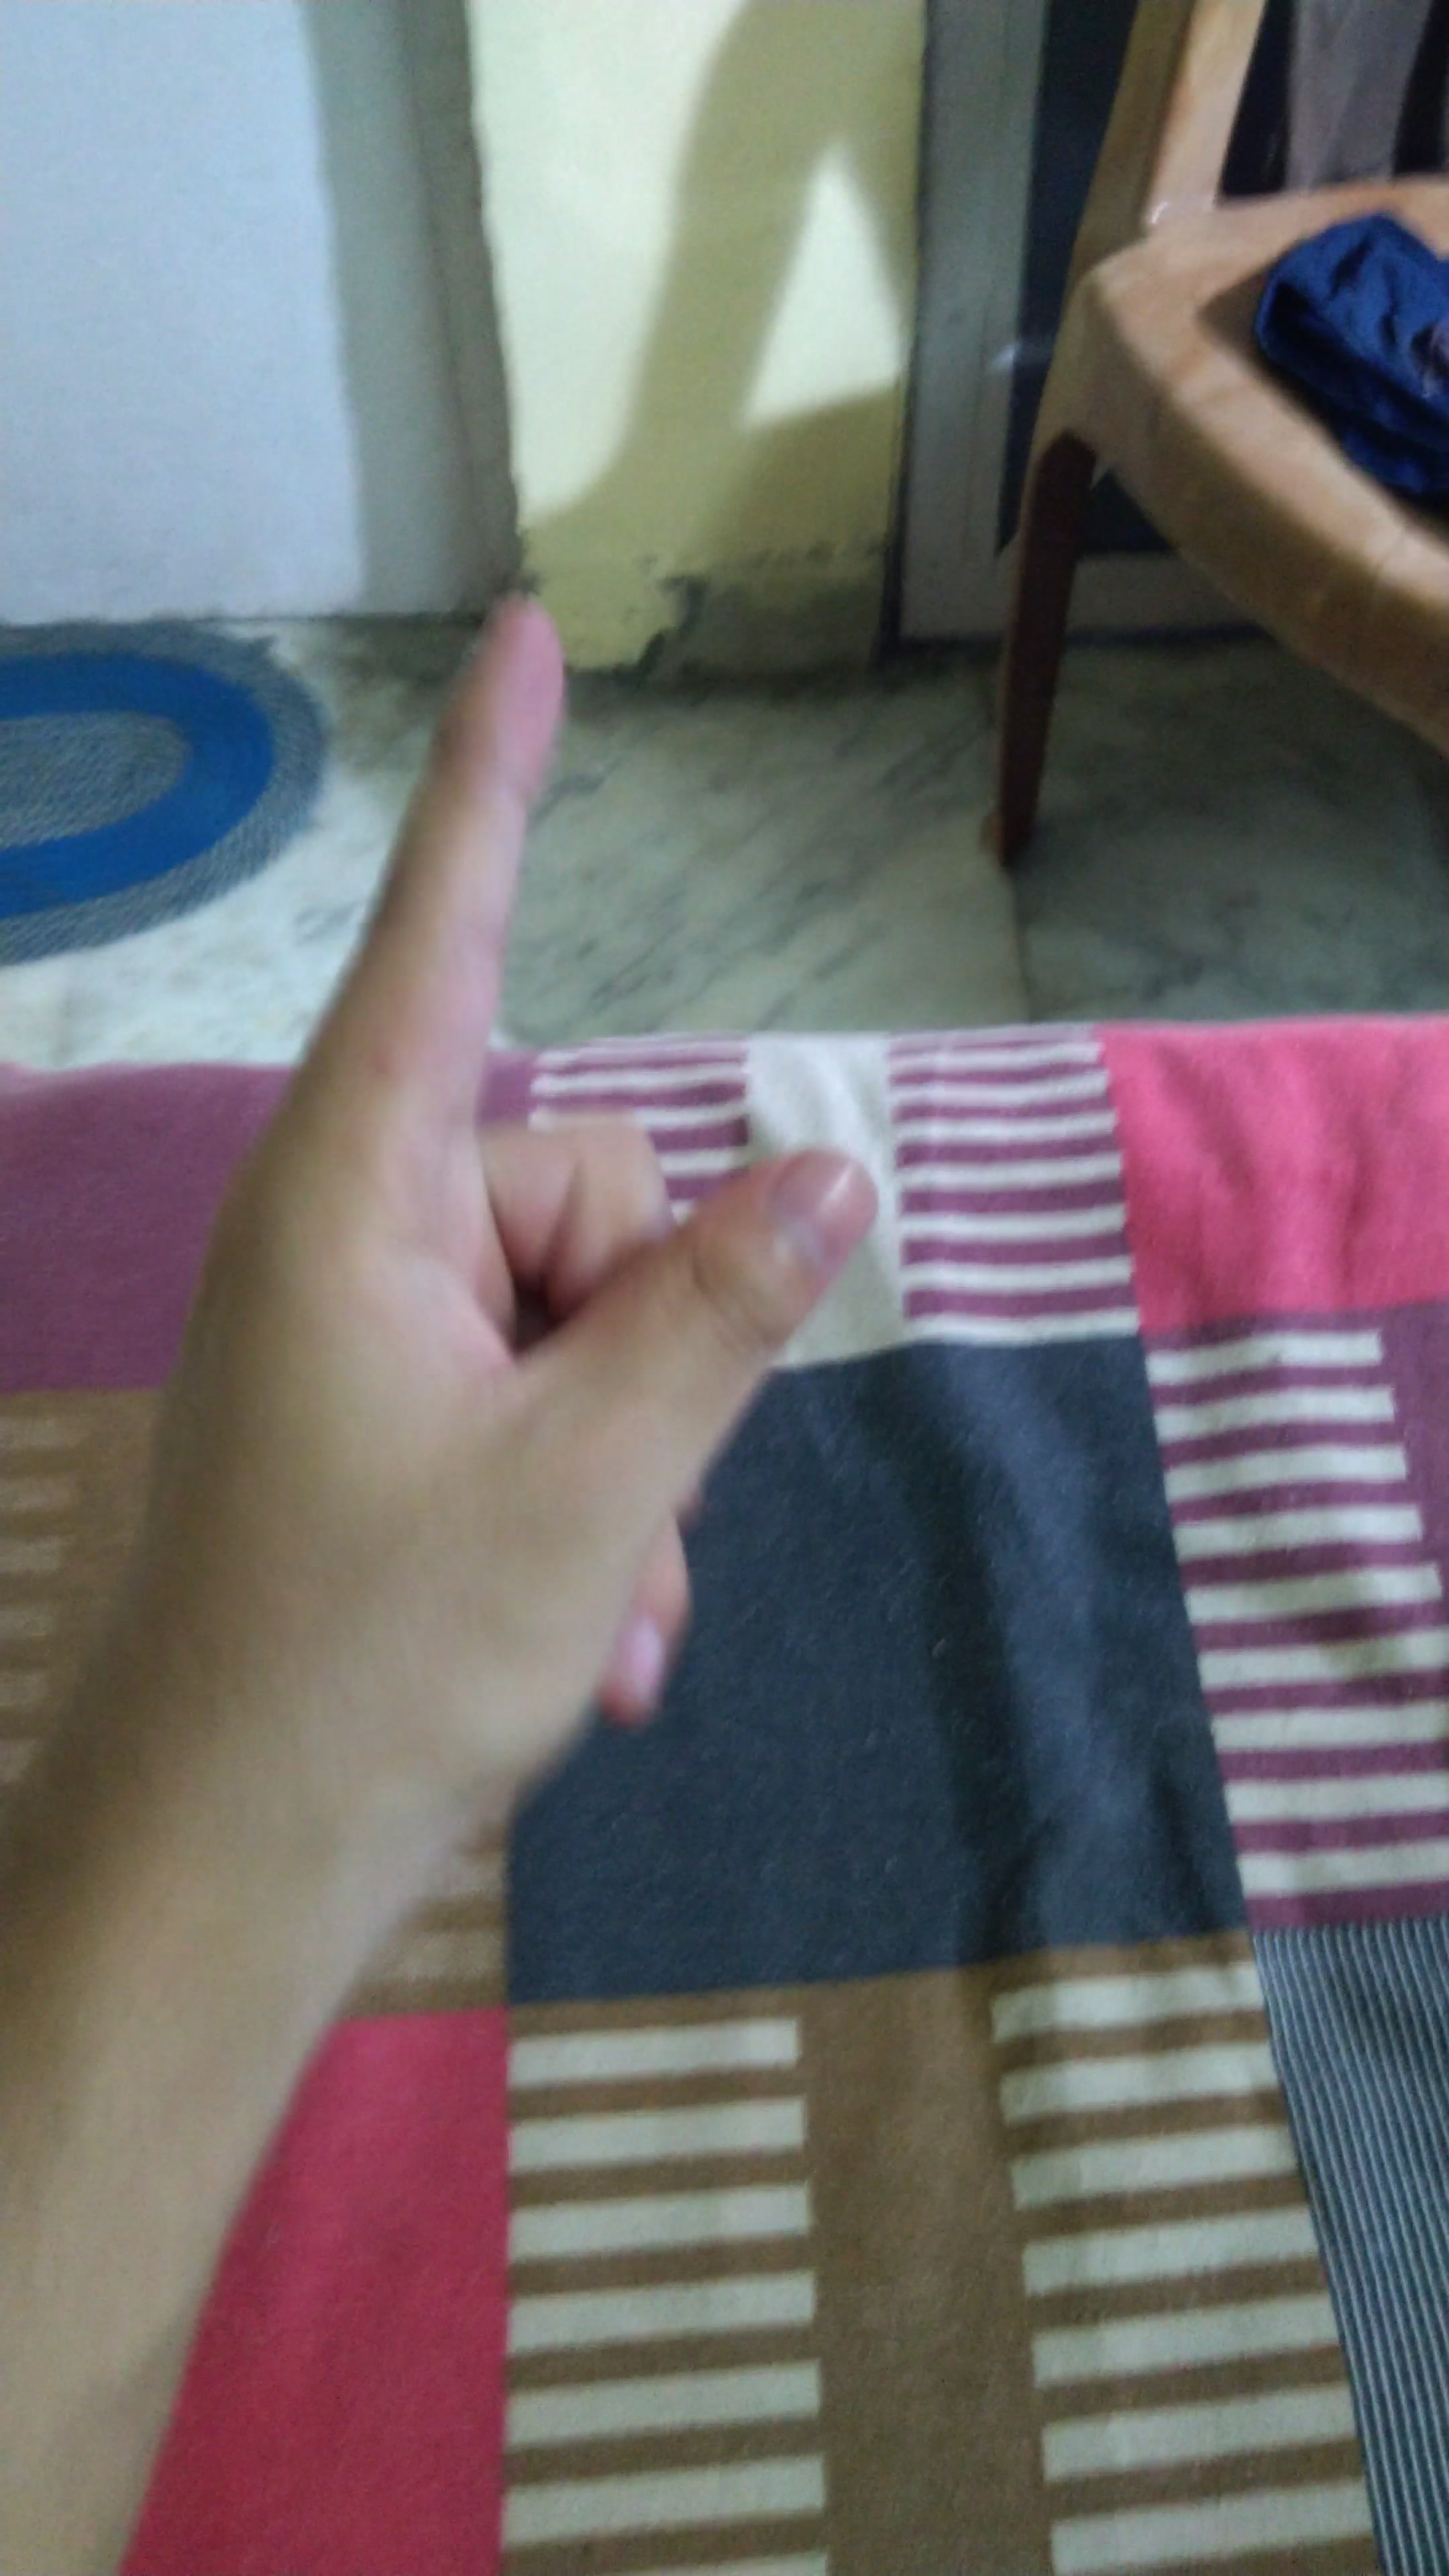hand: (90, 566, 895, 1909)
